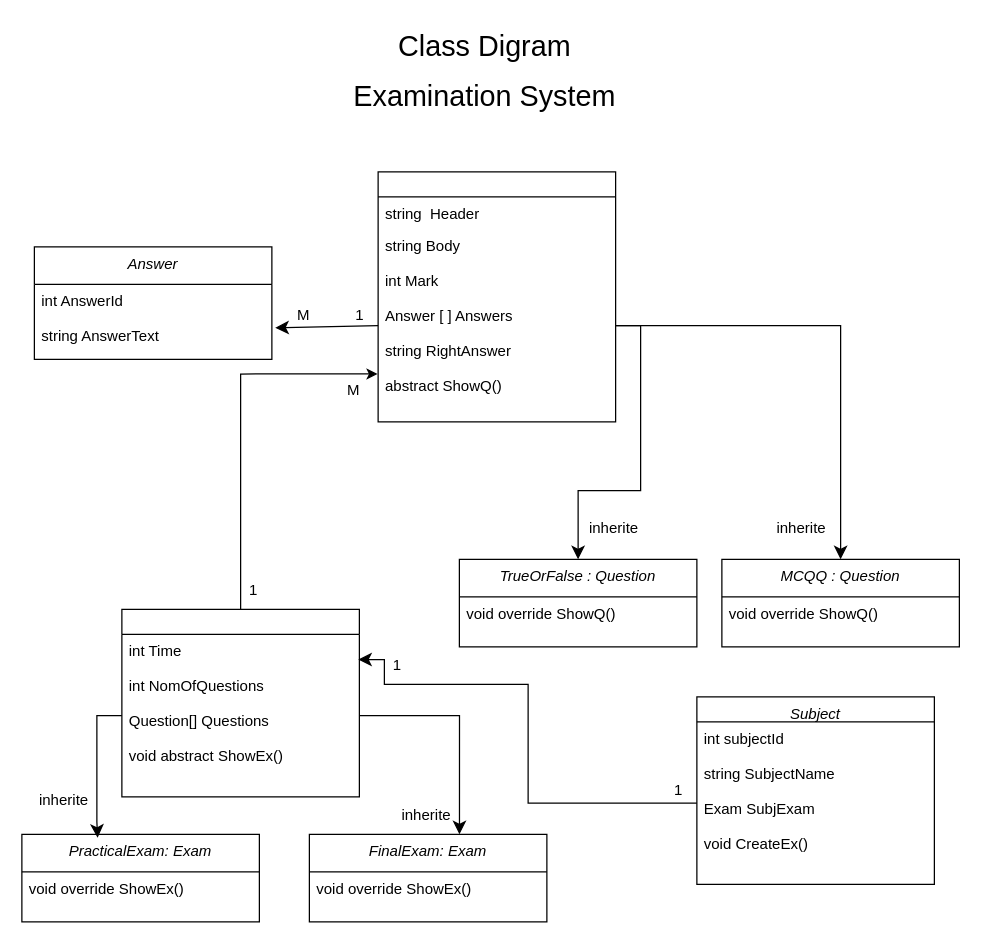
Some shapes in this 981 by 946 pixel diagram are drawn without their labels. The box of each missing label's shape, as (x1, y1, x2, y2) in pixels:
Exam (Abstract): (121, 608, 359, 797)
Qusetion (Abstract): (377, 171, 616, 422)
